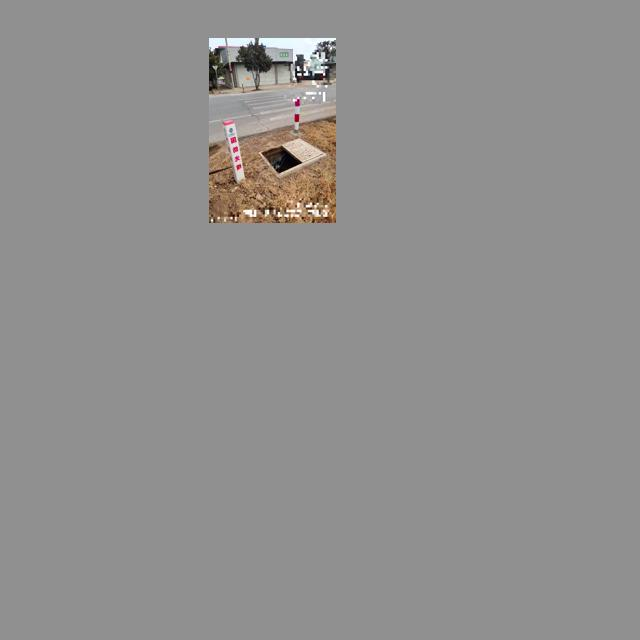lose: (255, 134, 312, 177)
